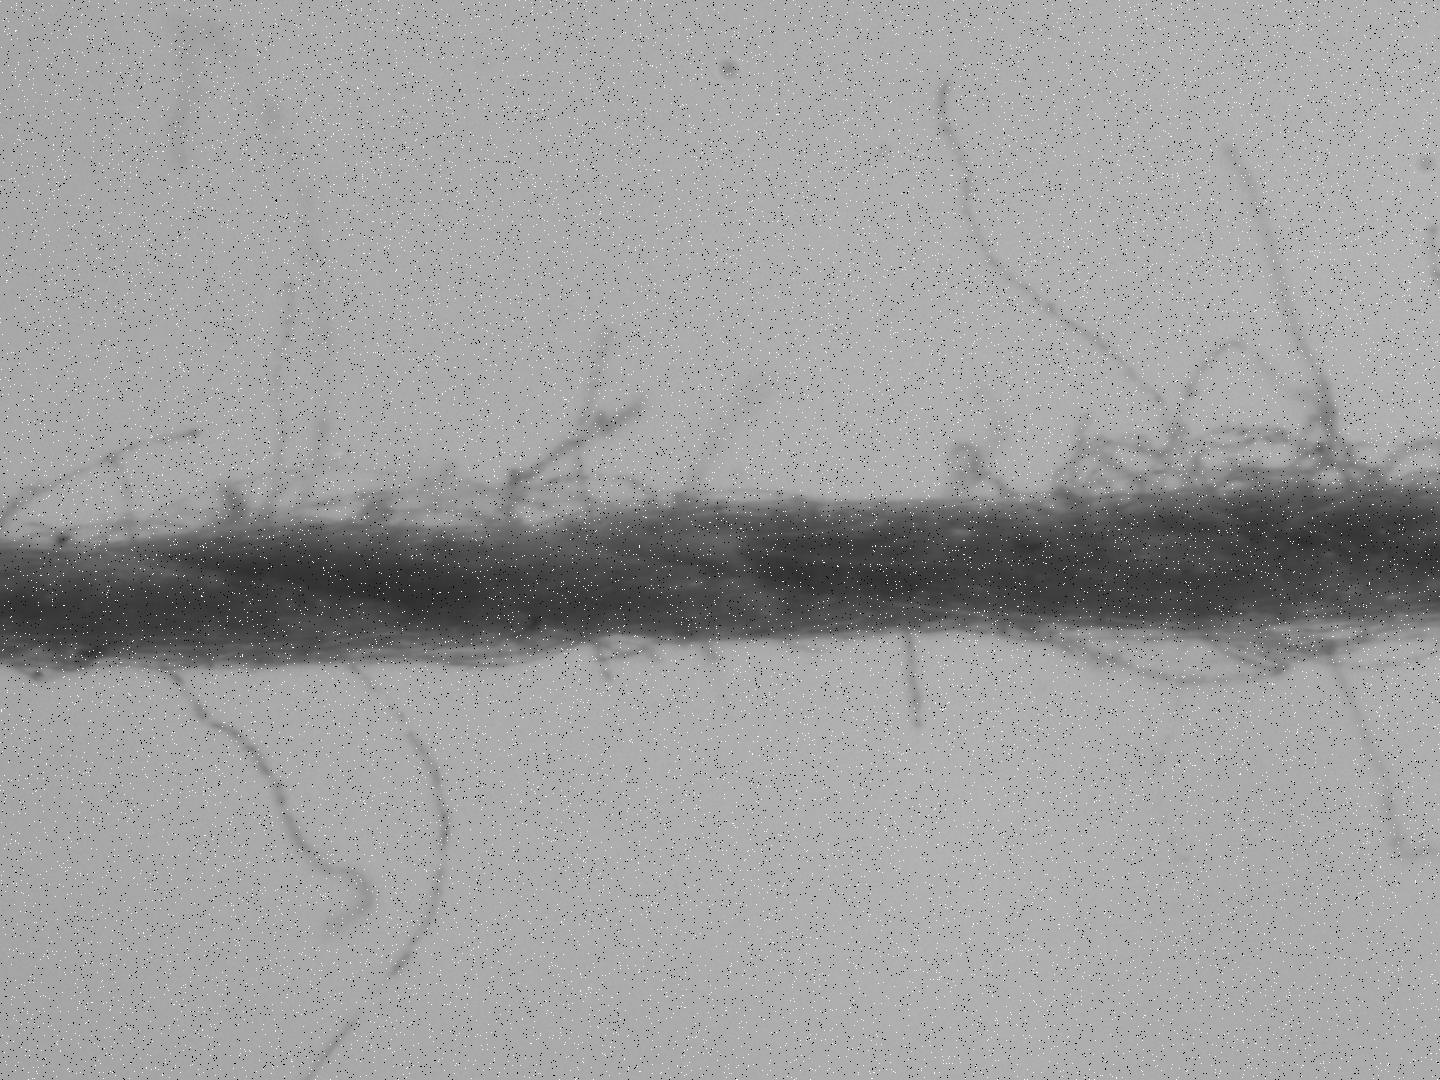loop_fiber: (1023, 625, 1375, 691)
protruding_fiber: (933, 78, 1200, 498), (300, 664, 460, 1080), (153, 672, 375, 945), (1204, 137, 1340, 490), (249, 277, 300, 534), (896, 631, 930, 735)
